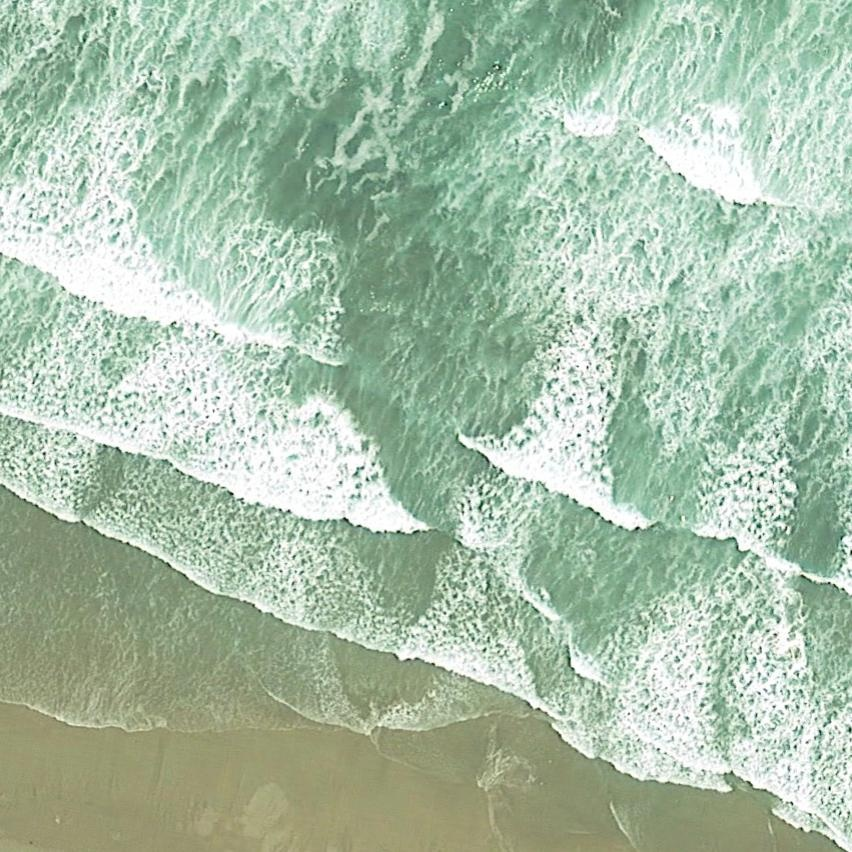rip_current: (241, 119, 561, 605)
